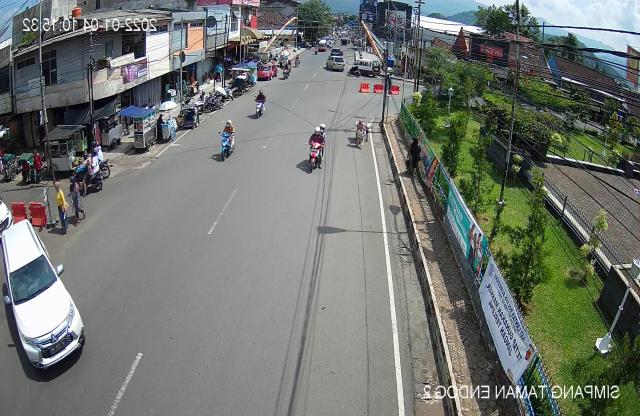Mobil: (0, 217, 85, 380)
Motor: (65, 142, 107, 194), (301, 122, 330, 176), (210, 118, 238, 167), (251, 87, 268, 119)
